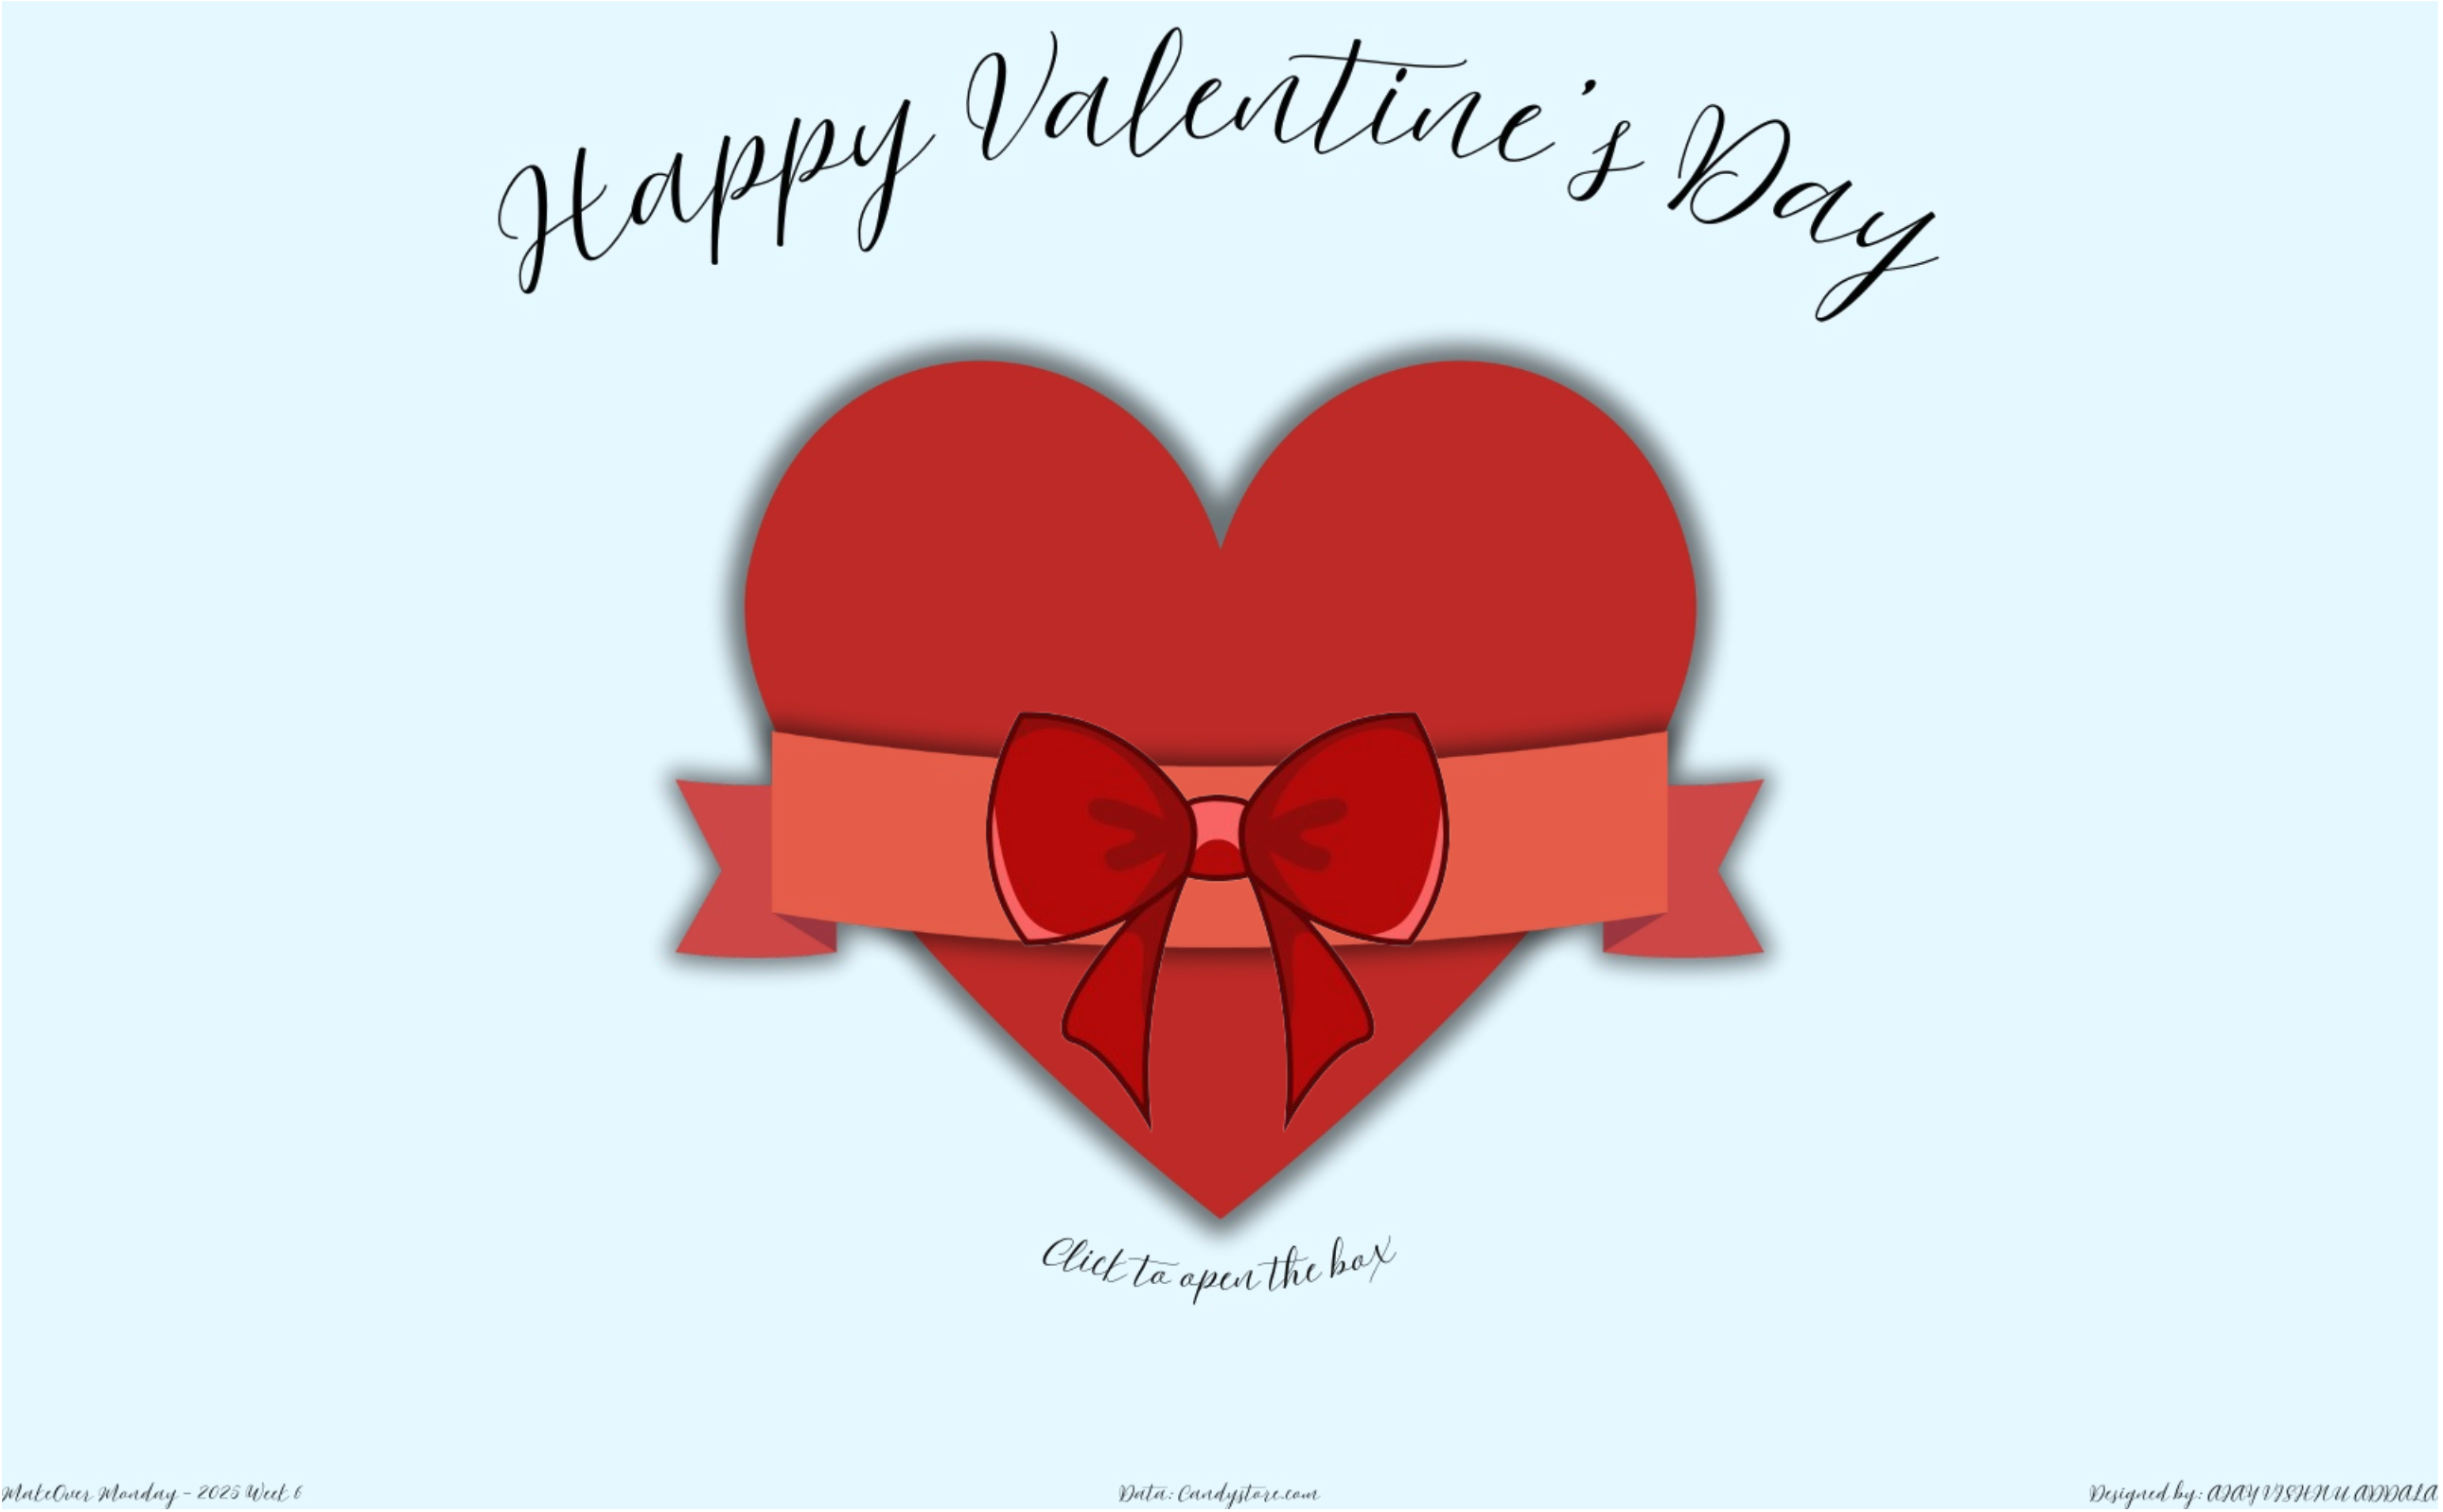

The page's visual inventory and layout, read from the dashboard file:
{"tool":"tableau","page":{"name":"Opening","canvas":[1613,1000],"ordinal":1},"visuals":[{"type":"image","param":"Image/1.png","box":[2,2,1609,996]},{"type":"dashboard-object","box":[555,341,500,500]}]}

Visuals, with their boxes in screenshot pixels (x1, y1, x2, y2), scaled from the page's 1613x1000 canvas onto the 2443x1512 screenshot:
image: bbox=[3, 3, 2440, 1509]
dashboard-object: bbox=[840, 516, 1598, 1272]
